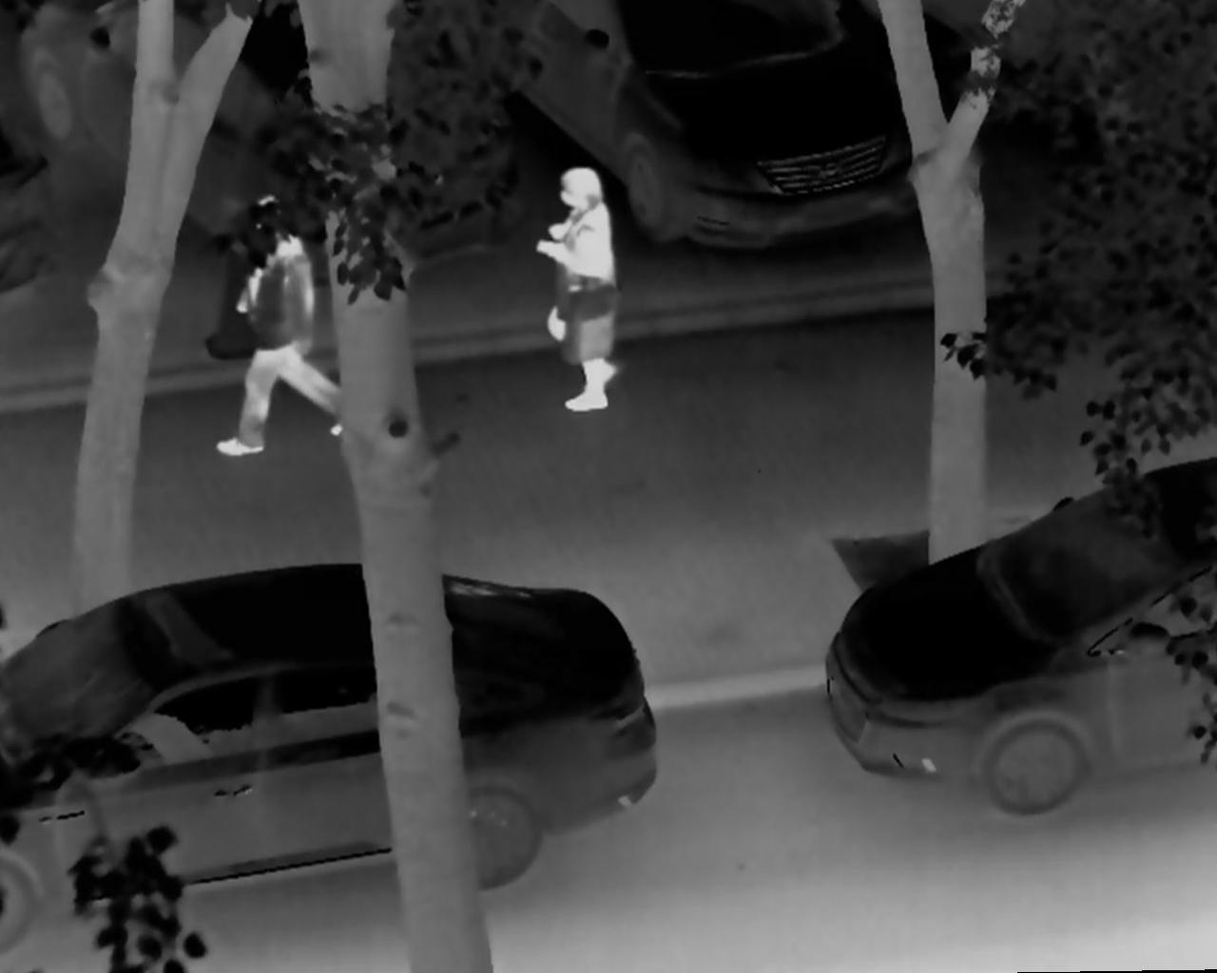person: (217, 178, 350, 457), (530, 164, 628, 419)
